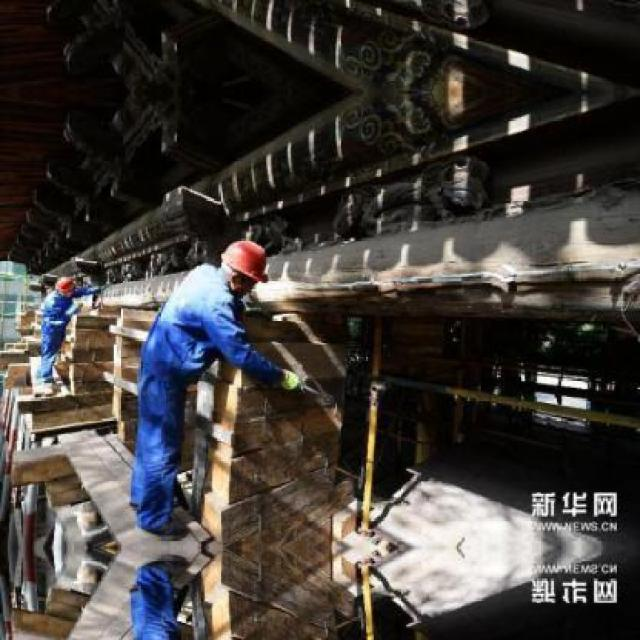helmet: (215, 230, 280, 292), (48, 268, 80, 300)
